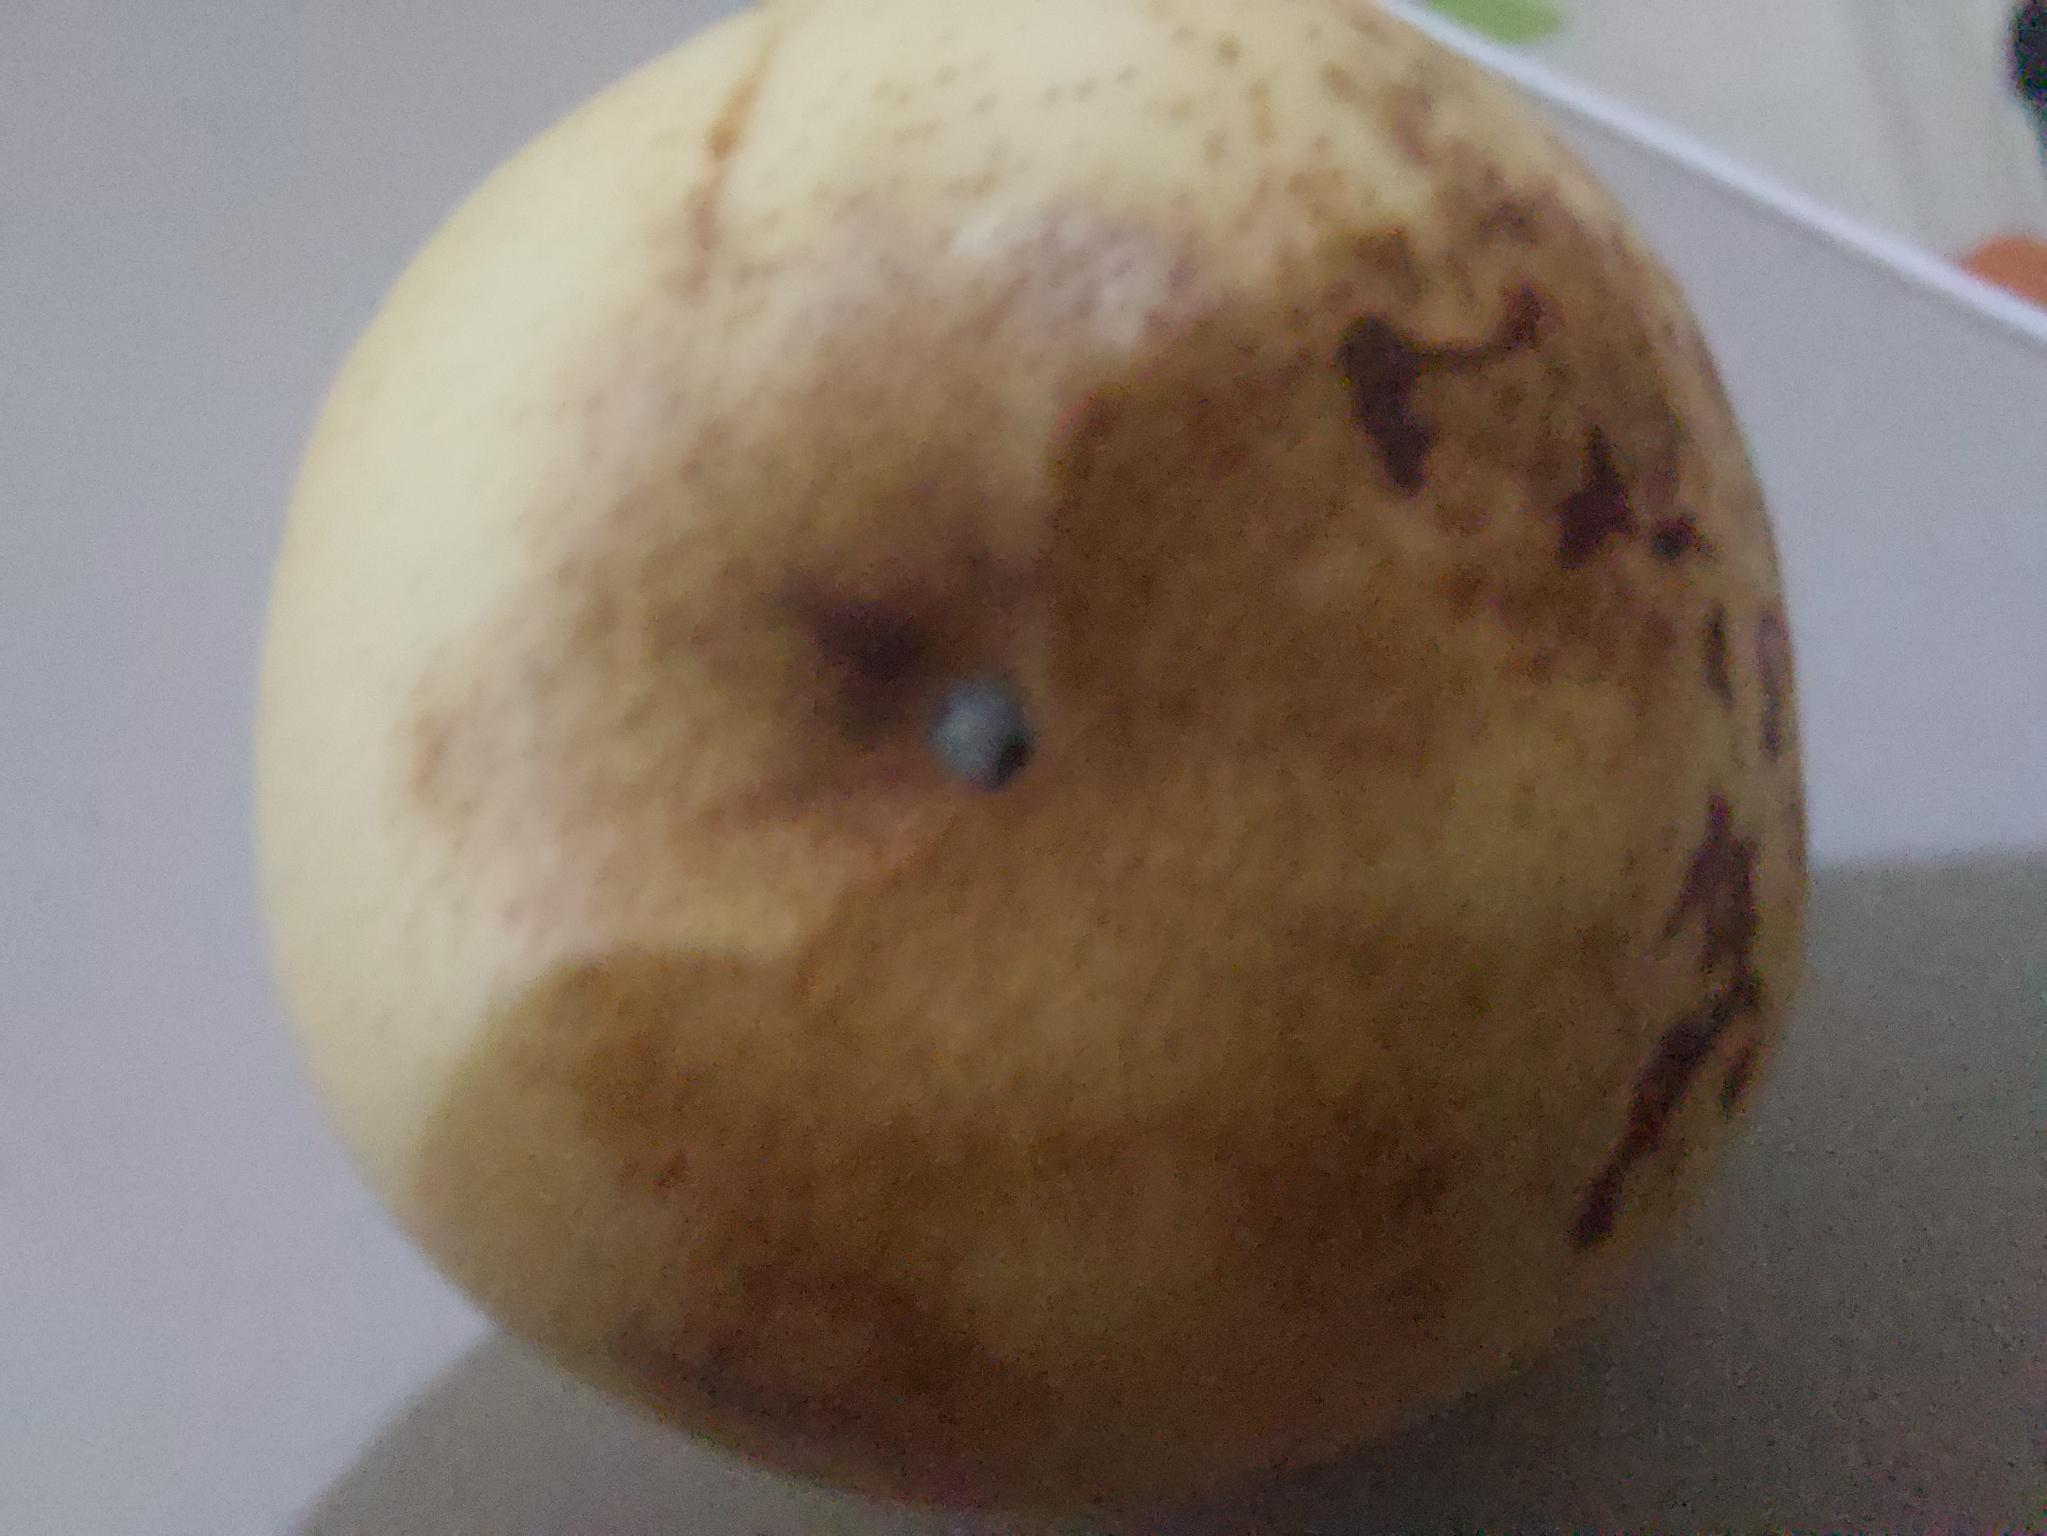Bad Pear: (268, 0, 1818, 1531)
